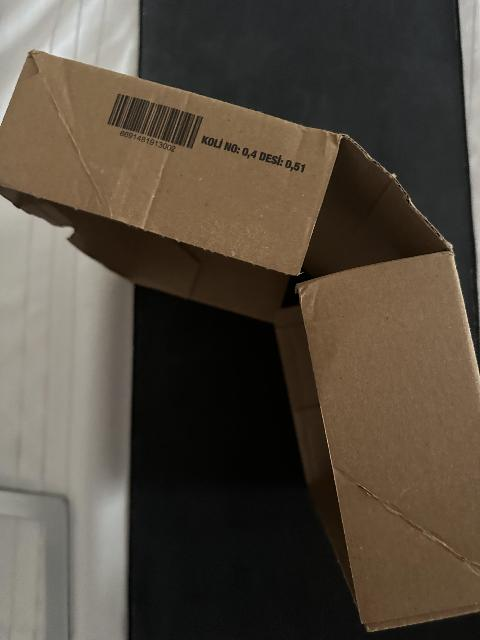Kagit: (0, 48, 480, 637)
